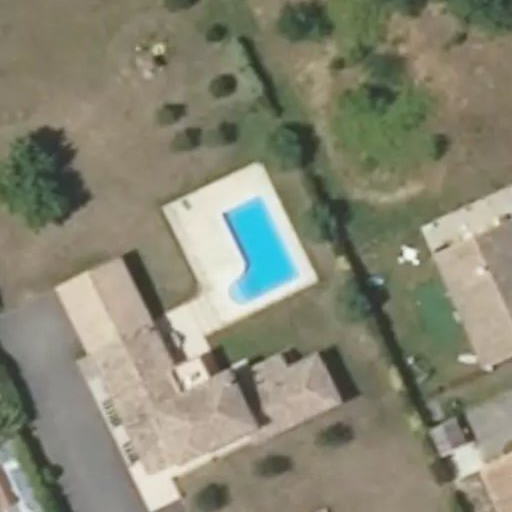pool: (215, 209, 296, 274)
